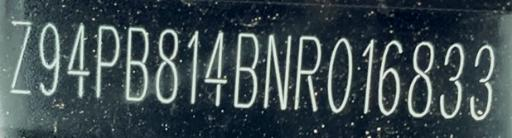letter: (261, 31, 293, 115), (292, 32, 324, 116), (92, 21, 124, 102), (406, 36, 436, 120), (469, 39, 497, 124), (154, 23, 182, 105), (202, 28, 230, 110), (326, 34, 354, 115), (374, 38, 402, 119), (123, 24, 151, 104), (6, 16, 34, 95), (64, 19, 92, 97), (232, 31, 260, 109), (36, 21, 64, 97), (438, 40, 464, 121), (358, 35, 376, 116), (184, 26, 202, 106)
